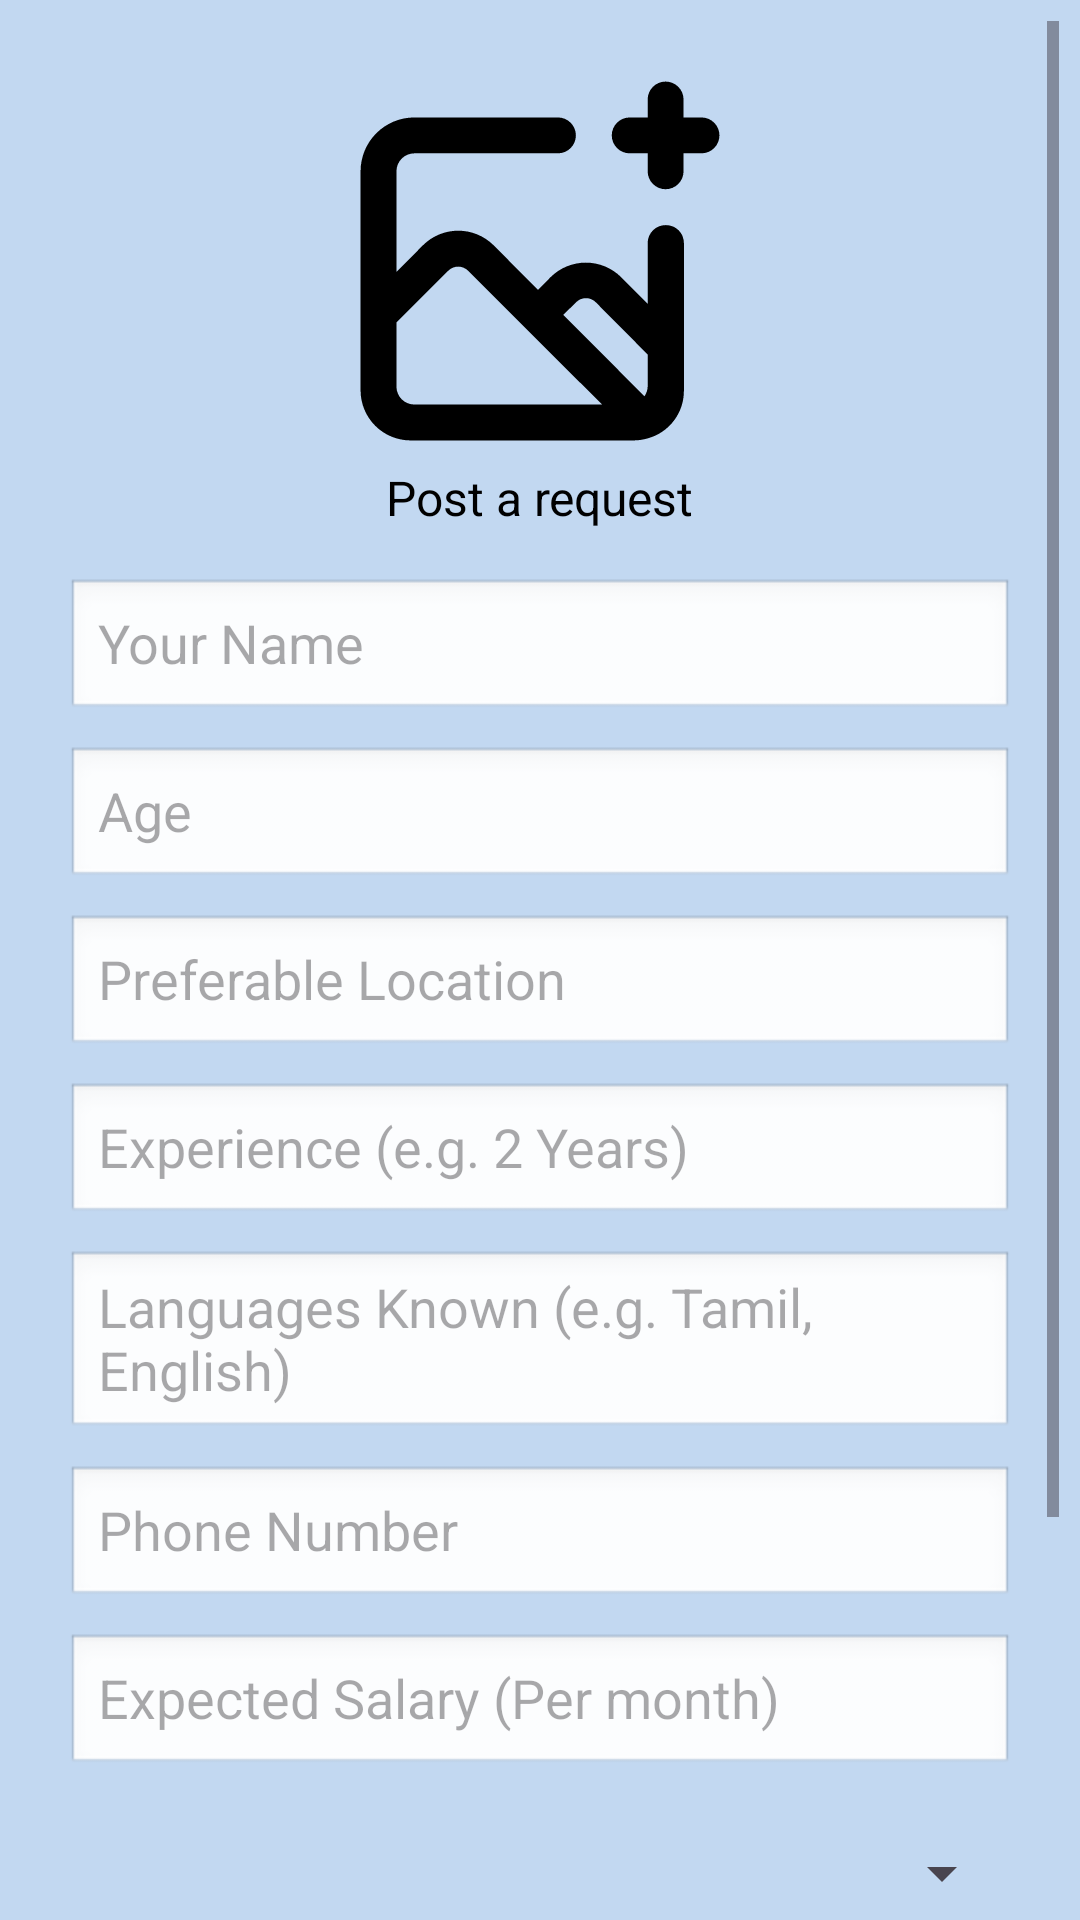

Where icons sit on this 1080*1920 app screen, as (x1,y1,x2,y2):
addimage: (360,81,720,441)
